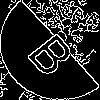B: (25, 25, 86, 80)
